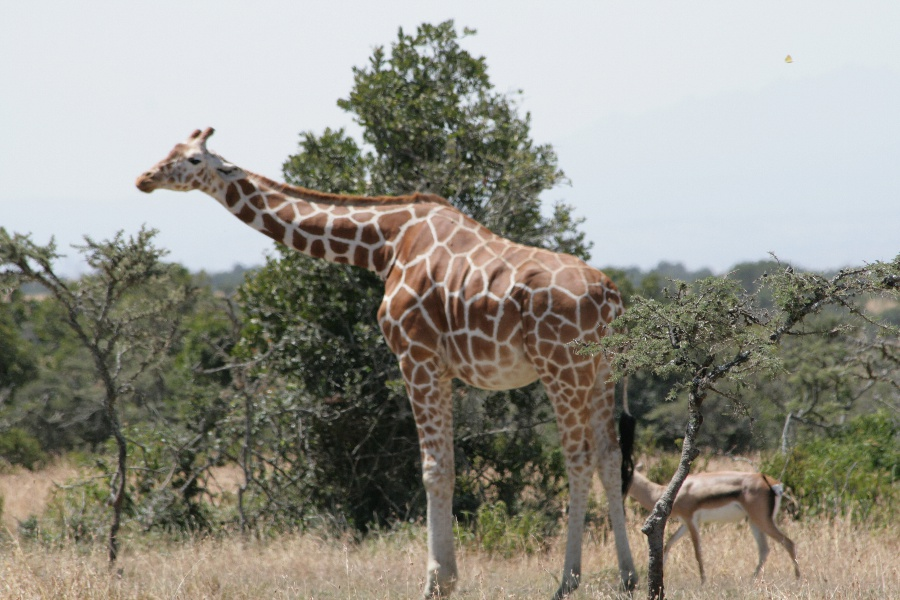giraffe: (123, 119, 656, 592)
